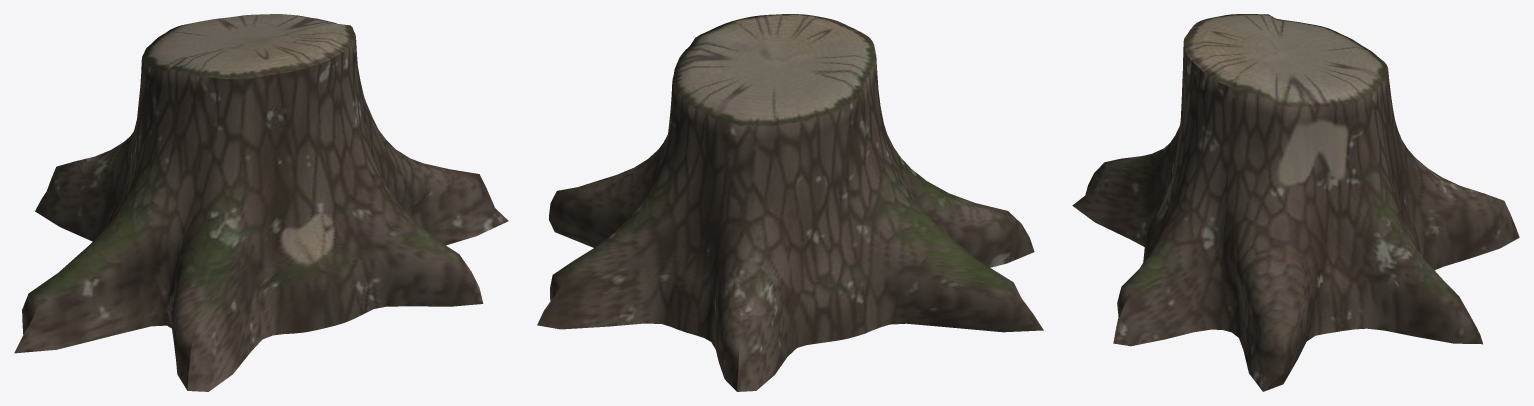
Rendered from stump_a.glb.
3 views of the same model, side by side, from view 1: azimuth 30°, elevation 25°; view 2: azimuth 150°, elevation 25°; view 3: azimuth 270°, elevation 25° (orthographic). The views are drawn at different scales.
Parts seen in each view (by area): view 1: stump_a; view 2: stump_a; view 3: stump_a.
Boxes of the visible parts, x1,y1,x2,y2 form: stump_a: (14,14,508,391); stump_a: (537,14,1043,391); stump_a: (1072,14,1519,391).
Bounding box in the file's own units: 1.42 × 0.662 × 1.14.
Materials: 1 (1 with a texture image).
